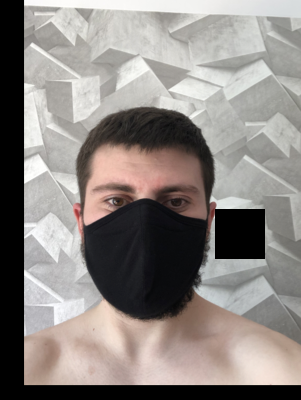with_mask: (83, 170, 207, 321)
